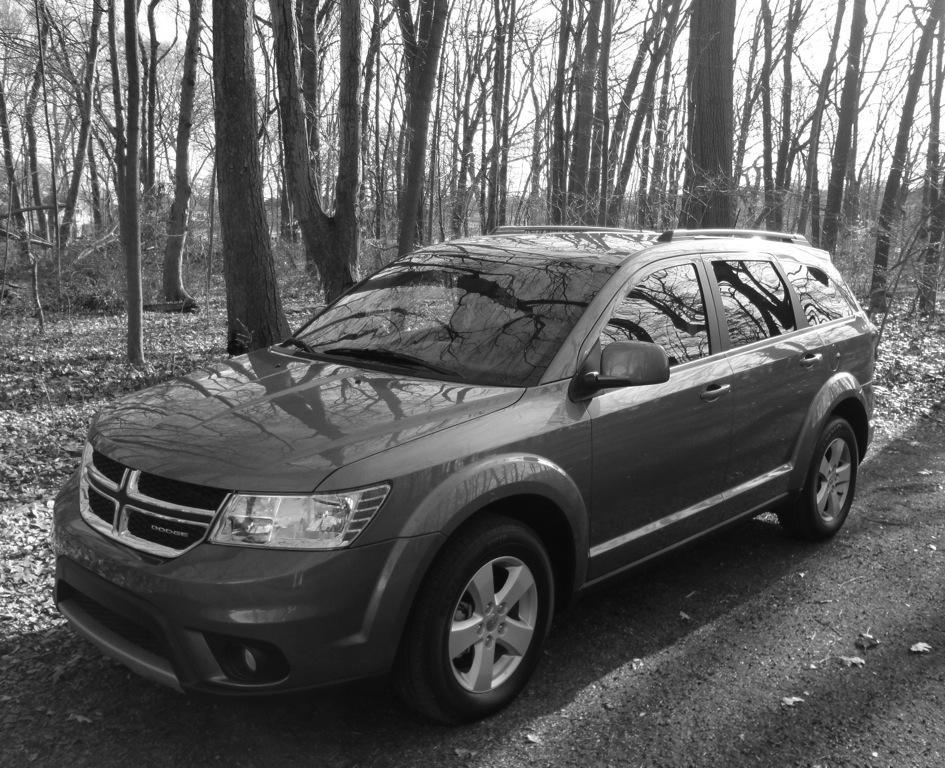car: (57, 229, 880, 725)
